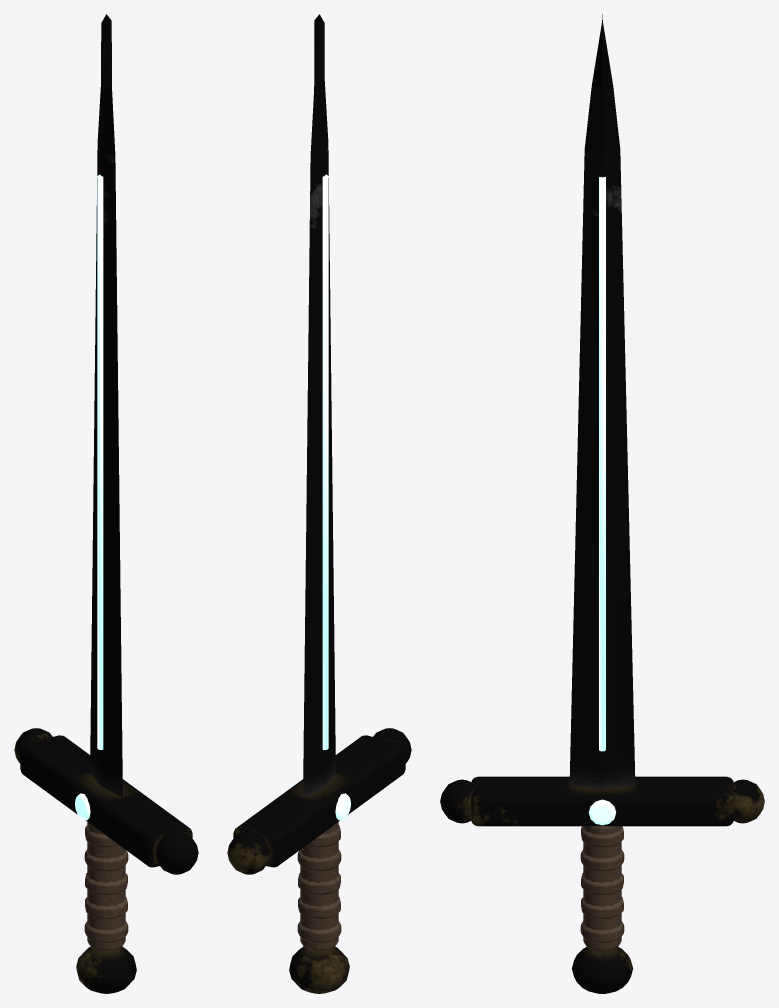
Rendered from espada.glb.
3 renders of one model, left to right at view 1: azimuth 30°, elevation 25°; view 2: azimuth 150°, elevation 25°; view 3: azimuth 270°, elevation 25°, orthographic.
Visible parts, largest first — view 1: espada; view 2: espada; view 3: espada.
Part boxes in pixels (x1,y1,x2,y2): espada: [14, 14, 198, 993]; espada: [227, 14, 411, 993]; espada: [440, 14, 764, 993].
Bounding box in the file's own units: 0.07 × 1.23 × 0.37.
Materials: 2 (1 with a texture image).
